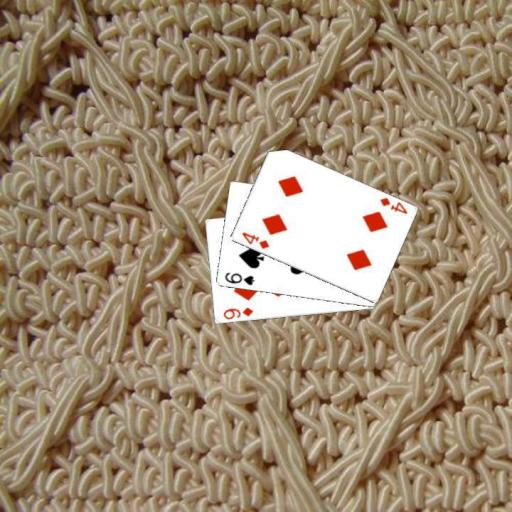card-corner: (376, 194, 408, 216), (238, 229, 270, 250), (221, 270, 256, 288), (220, 304, 254, 321)
